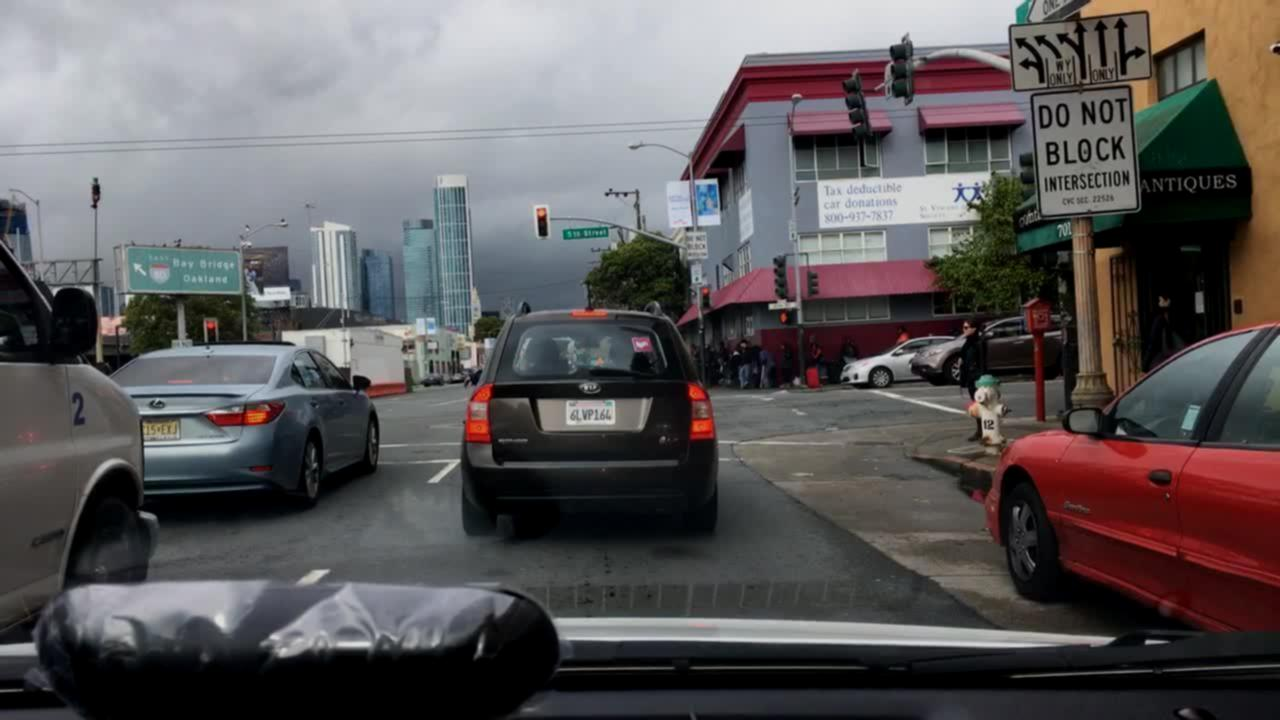kia: (577, 377, 603, 397)
lexus: (145, 396, 167, 413)
